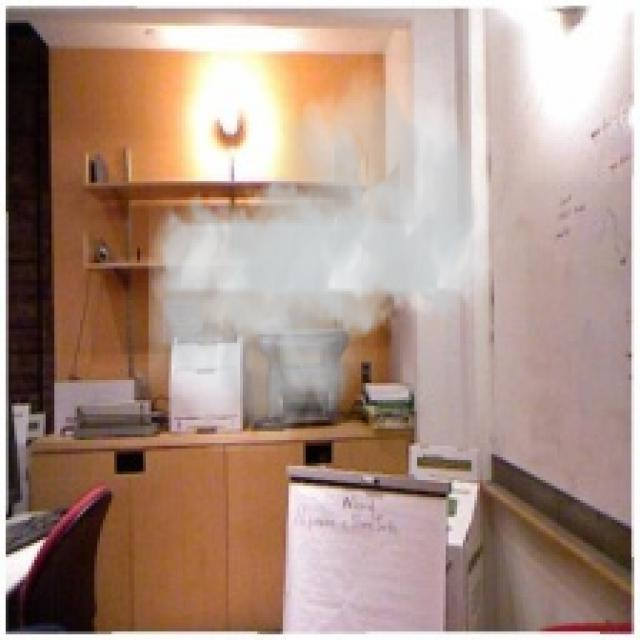smoke: (148, 63, 492, 451)
